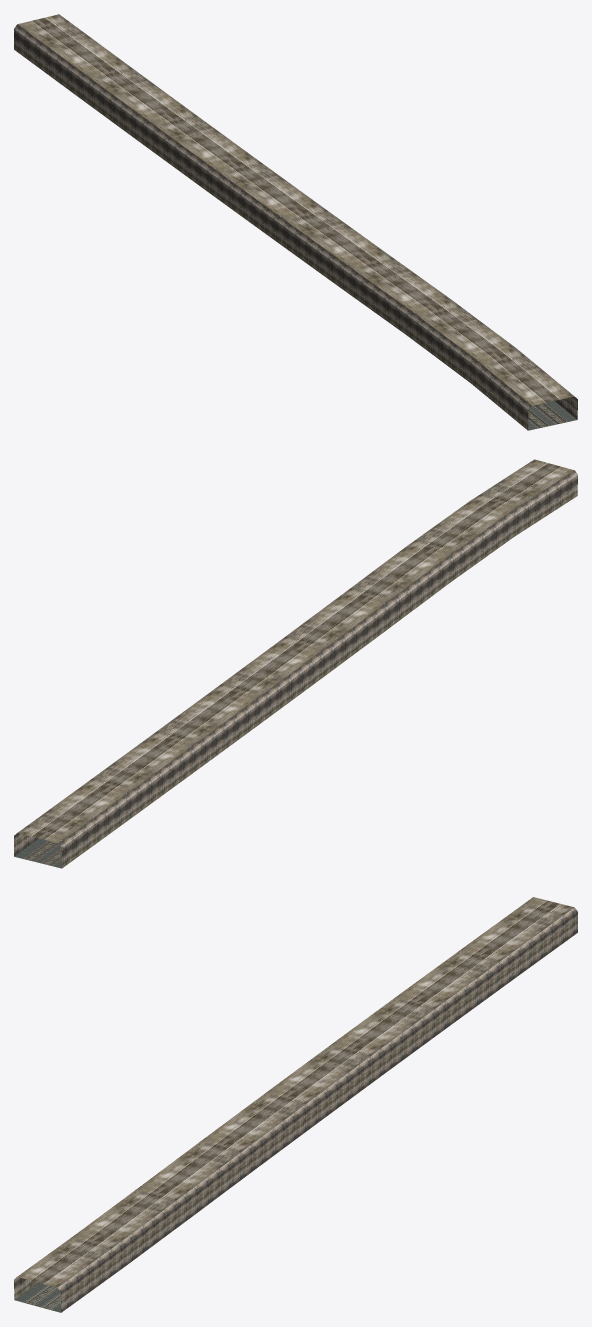
Rendered from southtunnel_03a_sfs.obj.
3 renders of one model, top to bottom at view 1: azimuth 30°, elevation 25°; view 2: azimuth 150°, elevation 25°; view 3: azimuth 330°, elevation 25°, orthographic.
Parts seen in each view (by area): view 1: southtunnel_03A_SFS; view 2: southtunnel_03A_SFS; view 3: southtunnel_03A_SFS.
Boxes of the visible parts, box(x1,y1,x2,y2) form: southtunnel_03A_SFS: box(14, 14, 577, 430); southtunnel_03A_SFS: box(14, 459, 577, 868); southtunnel_03A_SFS: box(14, 897, 577, 1312).
Size of the model in its own units: 11.79 by 6.12 by 205.
Materials: 4 (4 with a texture image).
